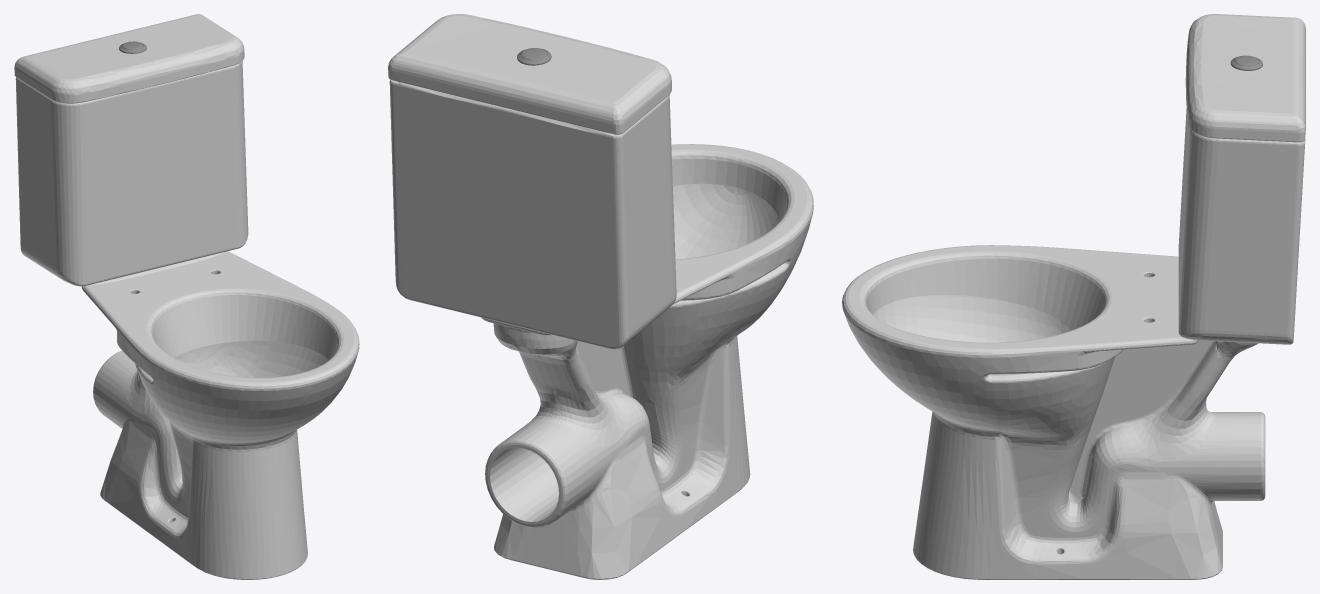
Rendered from AEC_29601.glb.
3 views of the same model, side by side, from view 1: azimuth 30°, elevation 25°; view 2: azimuth 150°, elevation 25°; view 3: azimuth 270°, elevation 25° (orthographic). The views are drawn at different scales.
Visible parts, largest first — view 1: 0; view 2: 0; view 3: 0.
Part boxes in pixels (bbox=[...]): 0: bbox=[14, 14, 359, 579]; 0: bbox=[388, 14, 813, 579]; 0: bbox=[842, 14, 1305, 579].
Size of the model in its own units: 0.36 by 0.76 by 0.65.
Materials: 1 (1 with a texture image).
